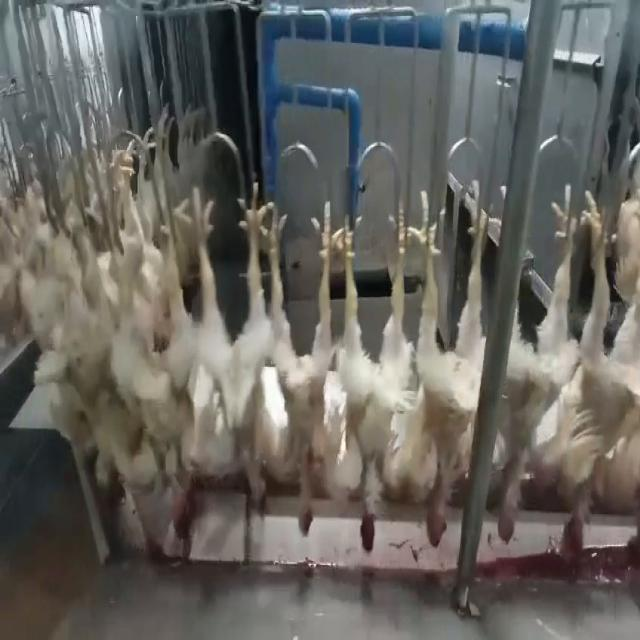chicken: (526, 189, 610, 568), (185, 178, 272, 514), (337, 174, 413, 553), (420, 171, 497, 542), (110, 198, 193, 535), (270, 191, 340, 536), (58, 194, 113, 446), (492, 252, 538, 547), (610, 183, 639, 558)
